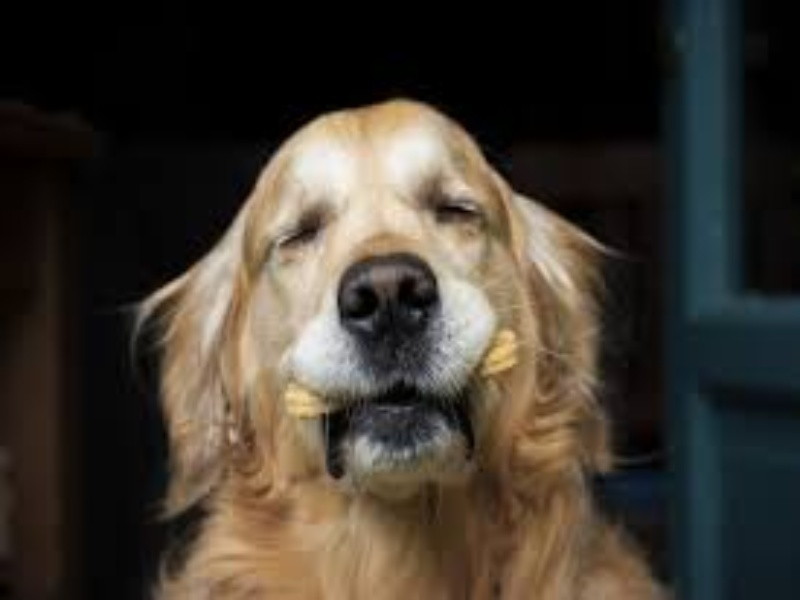dog: (116, 97, 665, 600)
